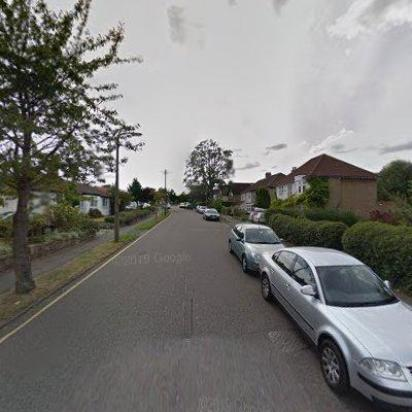stationary-car-onstreet: (258, 246, 412, 412), (227, 222, 286, 276), (202, 208, 220, 220)
